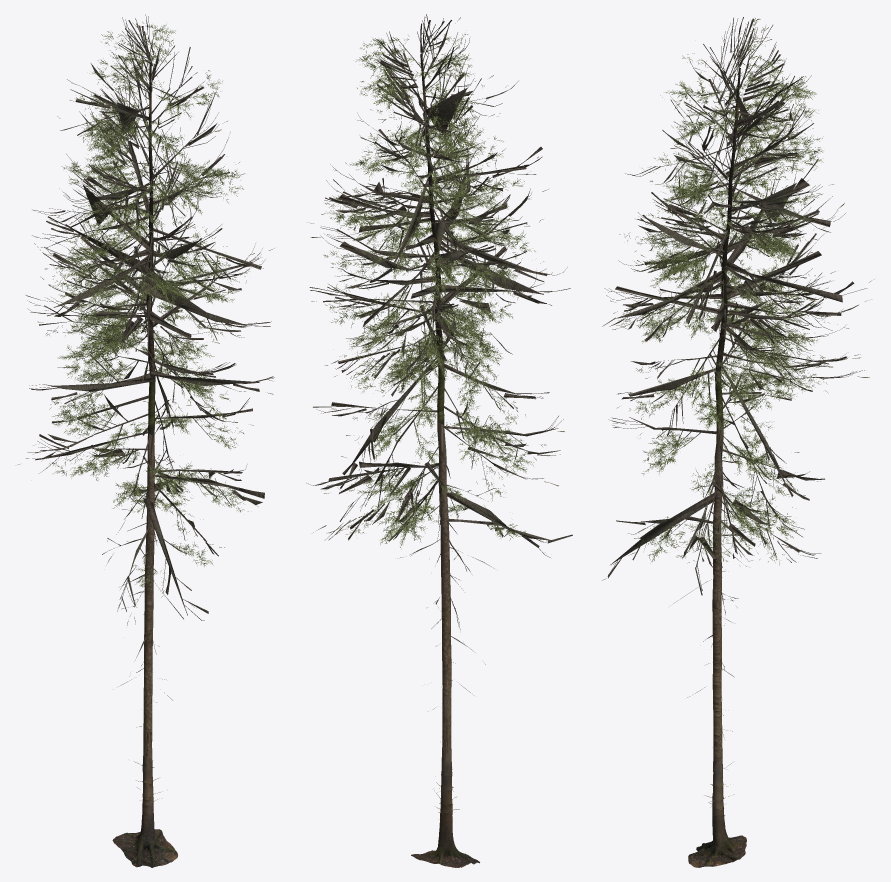
Rendered from fir_mature_a_lod0.gltf.
The picture shows the model from 3 angles, left to right: view 1: azimuth 30°, elevation 25°; view 2: azimuth 150°, elevation 25°; view 3: azimuth 270°, elevation 25°; orthographic projection. The views are drawn at different scales.
Visible parts, largest first — view 1: fir_tree_01_a_LOD0.003, fir_tree_01_a_LOD0.001, fir_tree_01_a_LOD0.002, fir_tree_01_a_LOD0; view 2: fir_tree_01_a_LOD0.003, fir_tree_01_a_LOD0.001, fir_tree_01_a_LOD0.002, fir_tree_01_a_LOD0; view 3: fir_tree_01_a_LOD0.001, fir_tree_01_a_LOD0.003, fir_tree_01_a_LOD0.002.
Part boxes in pixels (left/top/right/bottom): fir_tree_01_a_LOD0.003: left=18, top=22, right=274, bottom=607; fir_tree_01_a_LOD0.001: left=26, top=14, right=274, bottom=620; fir_tree_01_a_LOD0.002: left=112, top=62, right=177, bottom=867; fir_tree_01_a_LOD0: left=102, top=461, right=186, bottom=727; fir_tree_01_a_LOD0.003: left=309, top=17, right=564, bottom=547; fir_tree_01_a_LOD0.001: left=306, top=14, right=572, bottom=557; fir_tree_01_a_LOD0.002: left=411, top=54, right=479, bottom=867; fir_tree_01_a_LOD0: left=397, top=456, right=500, bottom=749; fir_tree_01_a_LOD0.001: left=602, top=17, right=867, bottom=595; fir_tree_01_a_LOD0.003: left=608, top=18, right=870, bottom=574; fir_tree_01_a_LOD0.002: left=688, top=68, right=746, bottom=867.
Size of the model in its own units: 5.52 by 18.5 by 5.49.
Materials: 4 (4 with a texture image).
